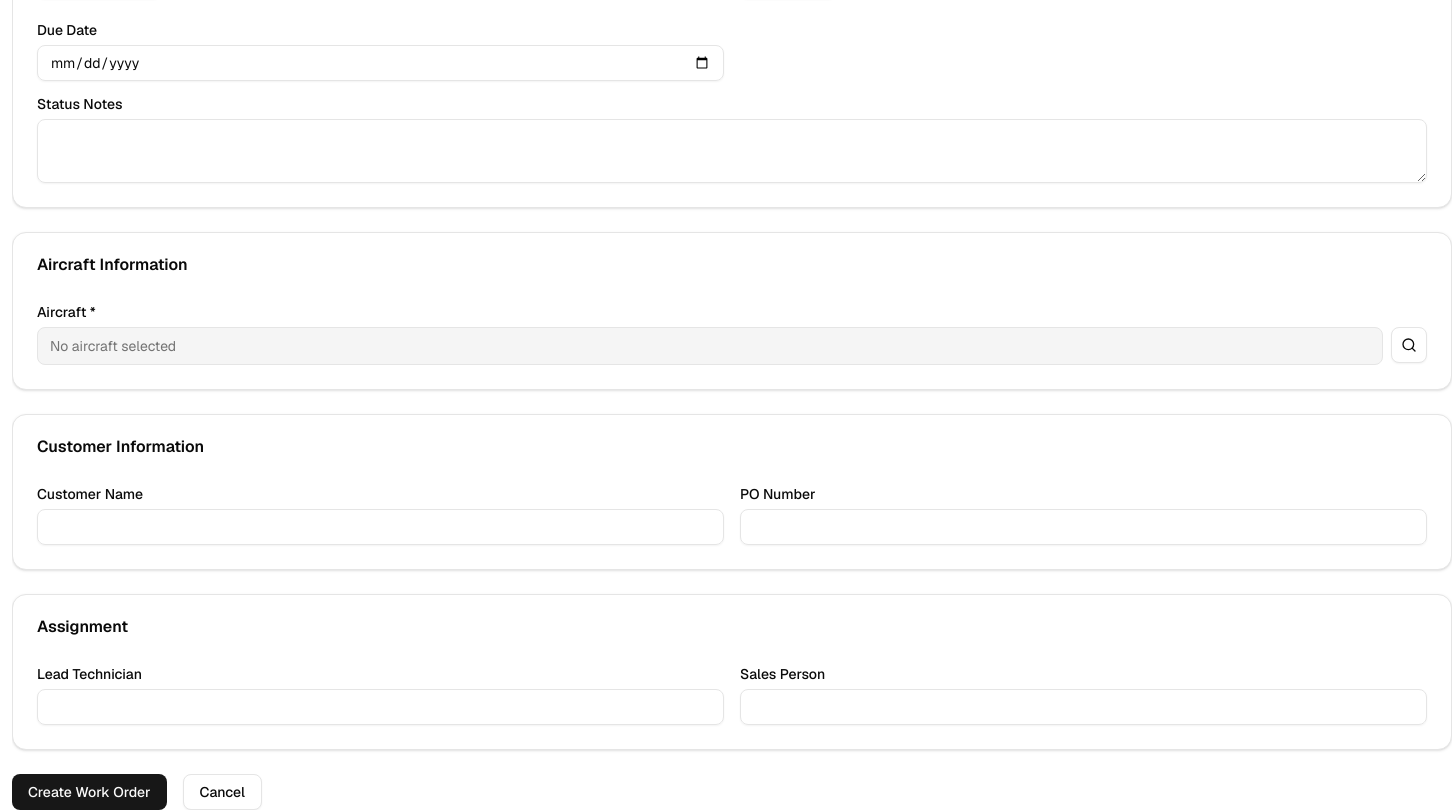
Test: WorkOrderForm › create mode › should show error when submitting without aircraft
(page scrolled)
# Submit without selecting aircraft
Click the button "Create Work Order": (89, 792) [12,774,166,809]
(page scrolled)
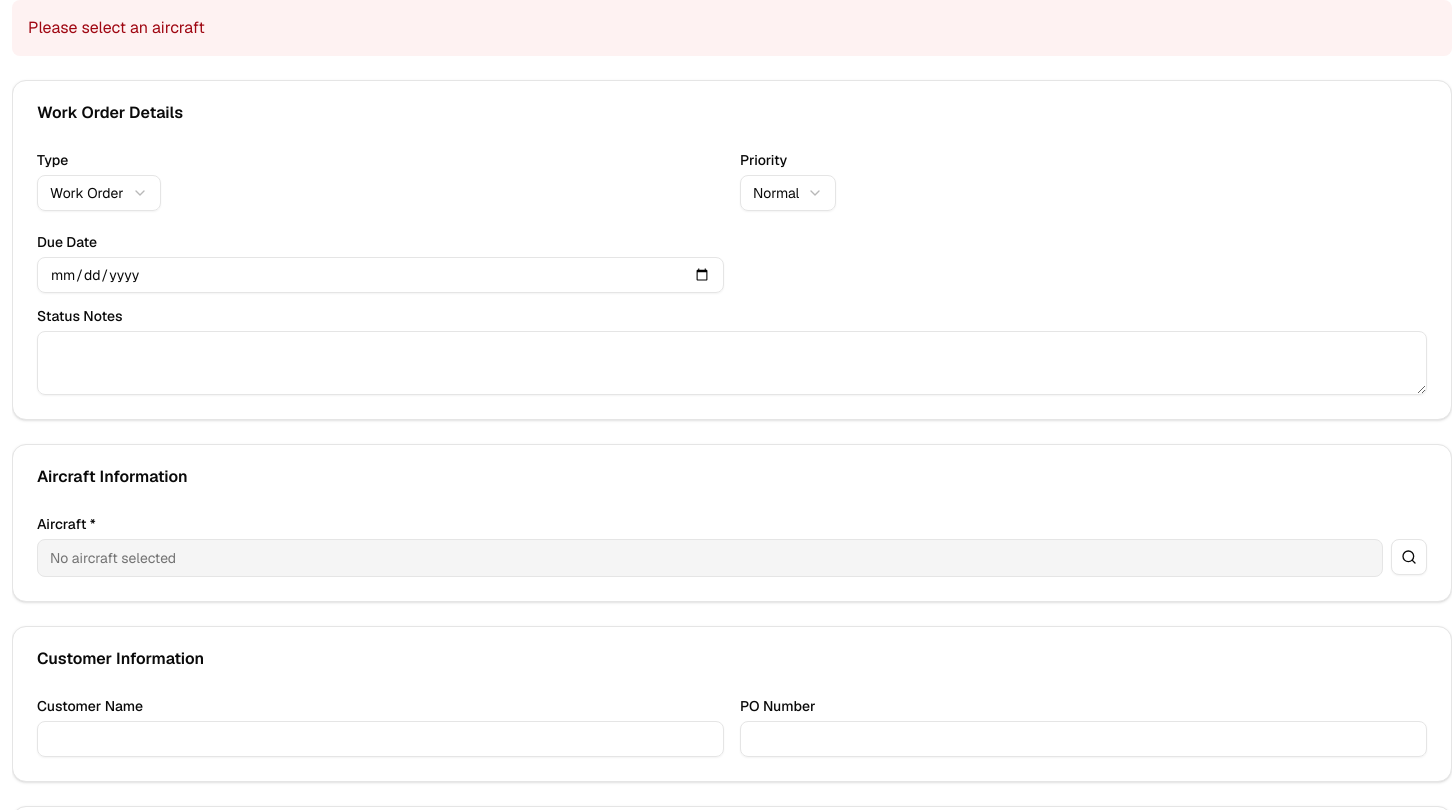
Expected: the text "Please select an aircraft" is shown, [12,0,1451,56]
